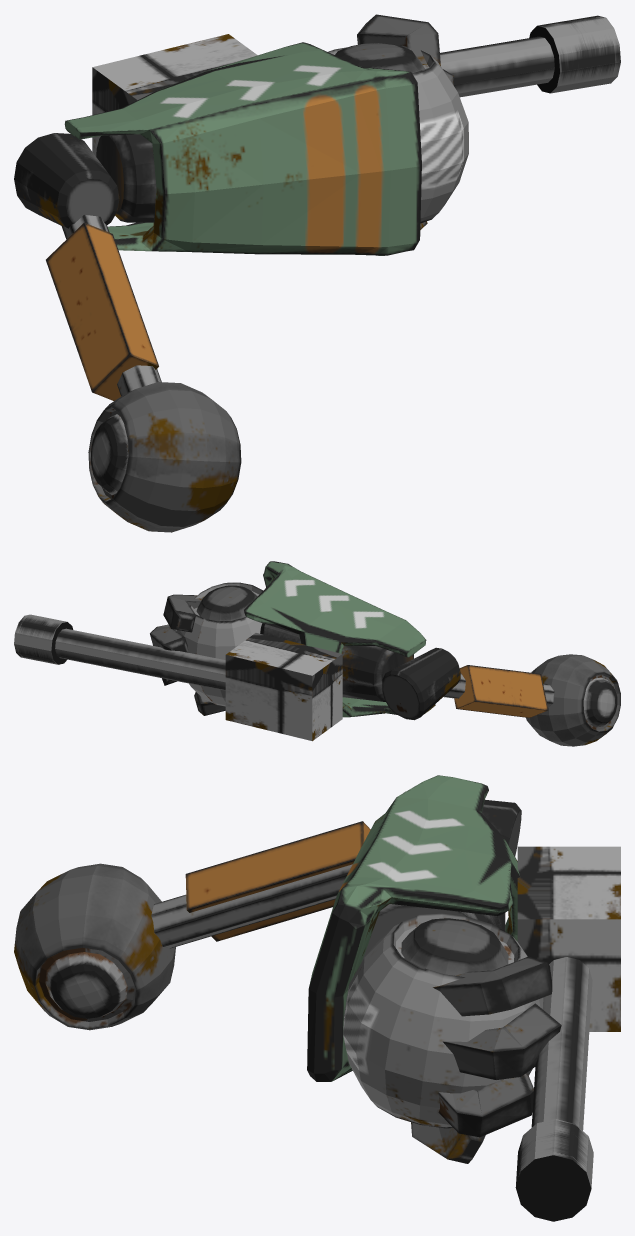
The model's file is SM_Mech_ArmL.obj.
The picture shows the model from 3 angles, top to bottom: view 1: azimuth 30°, elevation 25°; view 2: azimuth 150°, elevation 25°; view 3: azimuth 270°, elevation 25°; orthographic projection. The views are drawn at different scales.
Visible parts, largest first — view 1: SM_Mech_ArmL; view 2: SM_Mech_ArmL; view 3: SM_Mech_ArmL.
Boxes of the visible parts, x1,y1,x2,y2 form: SM_Mech_ArmL: (14, 14, 620, 532); SM_Mech_ArmL: (14, 561, 620, 746); SM_Mech_ArmL: (14, 775, 620, 1221).
Size of the model in its own units: 289 by 110 by 194.
1 material, 1 textured.
